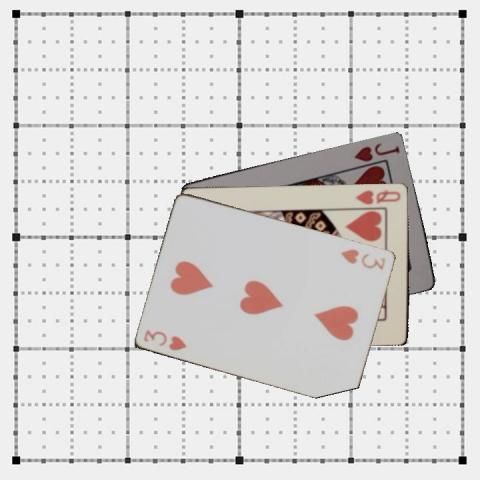3h: (338, 246, 387, 272), (141, 327, 189, 352)
Jh: (352, 139, 402, 163)
Qh: (353, 187, 403, 205)
